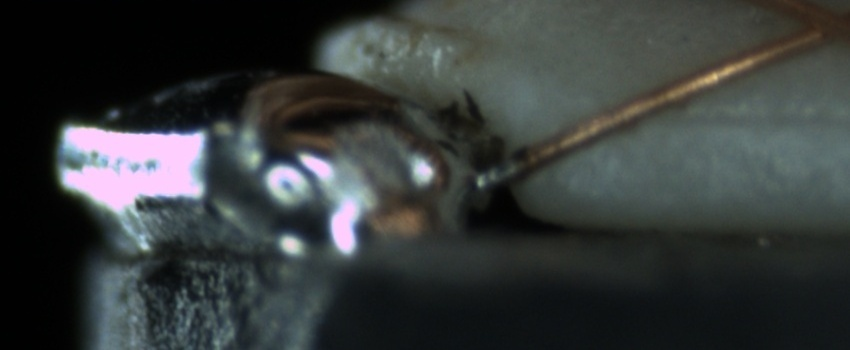CL: (766, 4, 843, 56)
DL: (633, 84, 850, 154)
TS: (473, 155, 523, 189)
